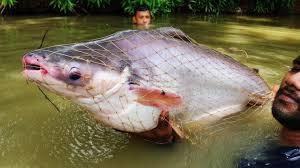Pangasius: (22, 26, 277, 132)
